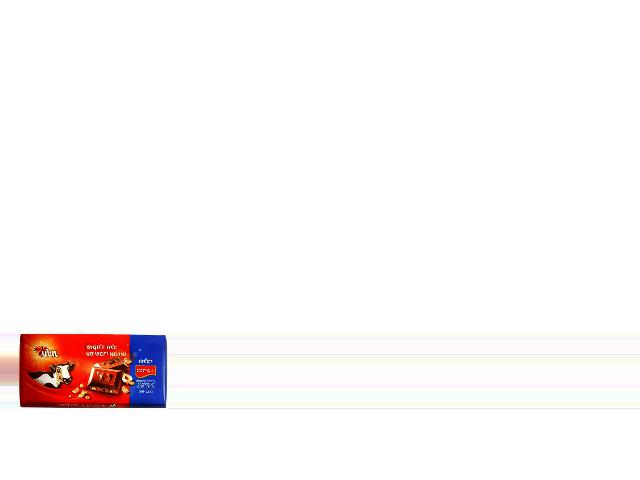chocolate: (18, 334, 166, 407)
